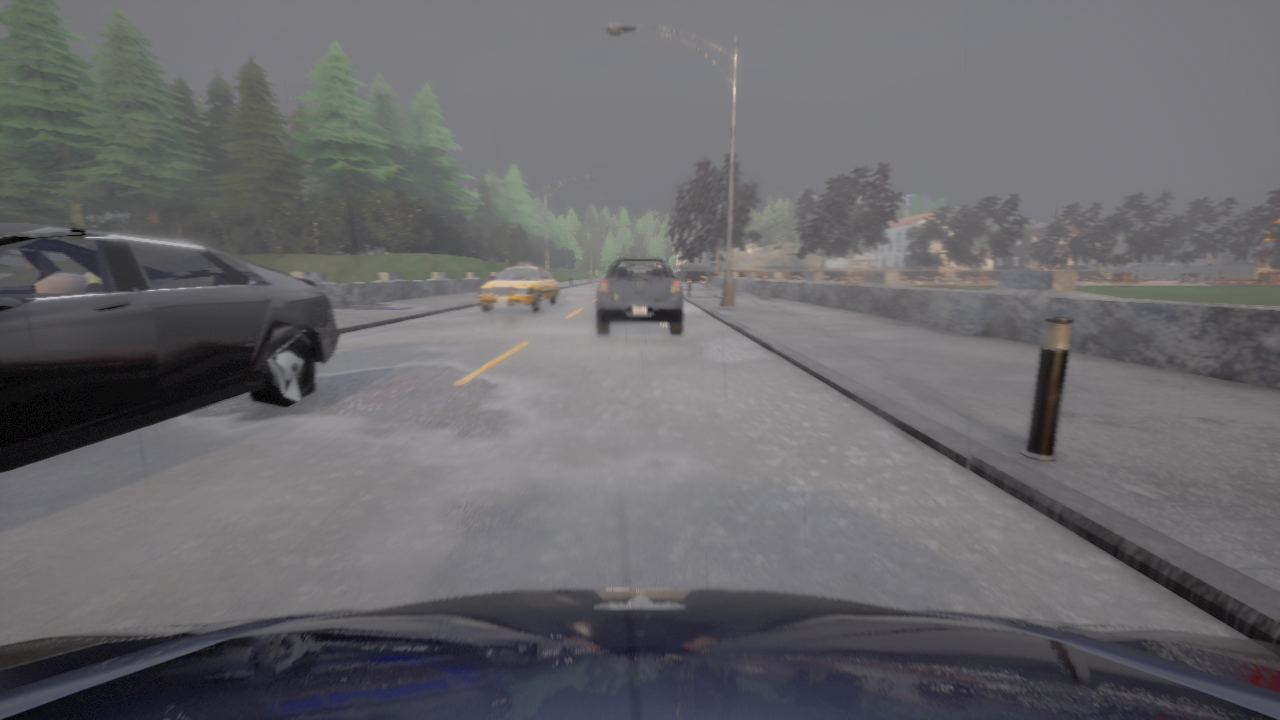cyclist: (0, 588, 1279, 719), (596, 258, 683, 335), (478, 262, 558, 311), (672, 272, 677, 278)
